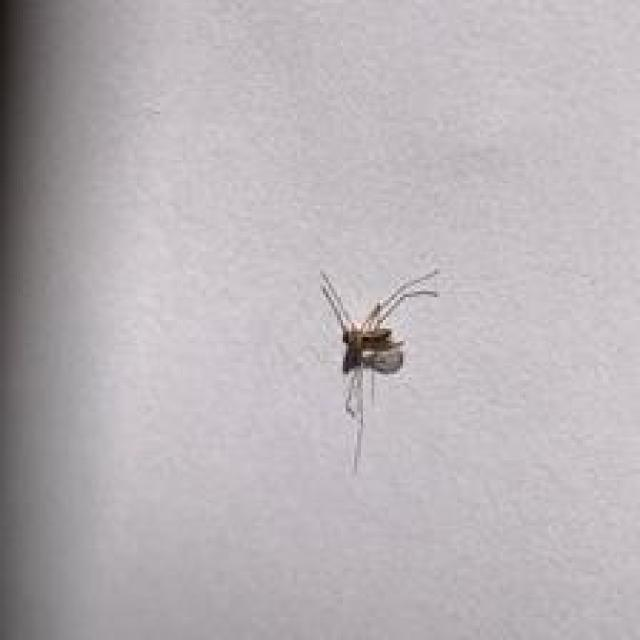Culex: (316, 266, 441, 474)
